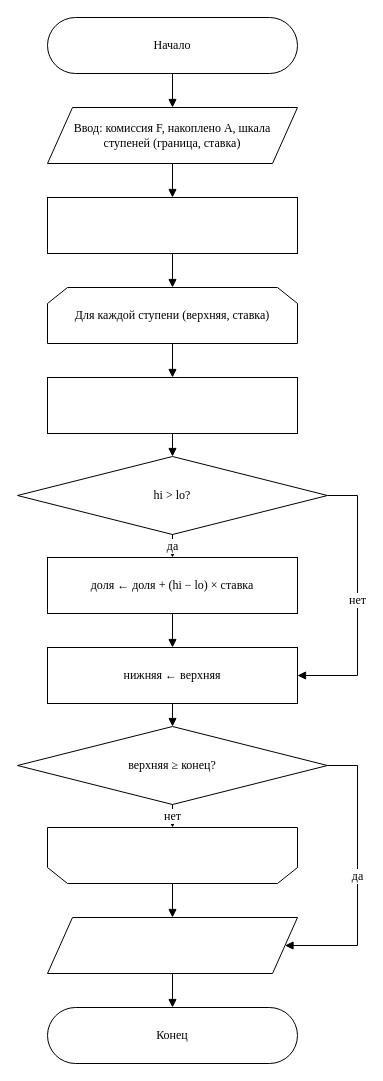
Image size: 383x1081. Some labels were removed from this diagram. Here are the shapes that lost their labels. From the top down, the centre of each, then its label:
At [172,225]: "доля ← 0; нижняя ← 0; конец ← A + F".
At [172,405]: "lo ← max(A, нижняя); hi ← min(конец, верхняя)".
At [172,855]: "Конец цикла по ступеням".
At [172,945]: "Вывод: доля, округлённая до рубля".
